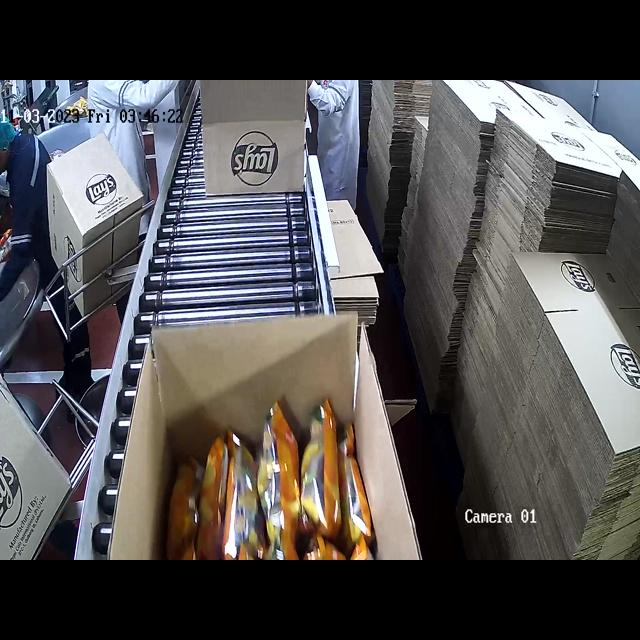cheese: (183, 415, 384, 560)
